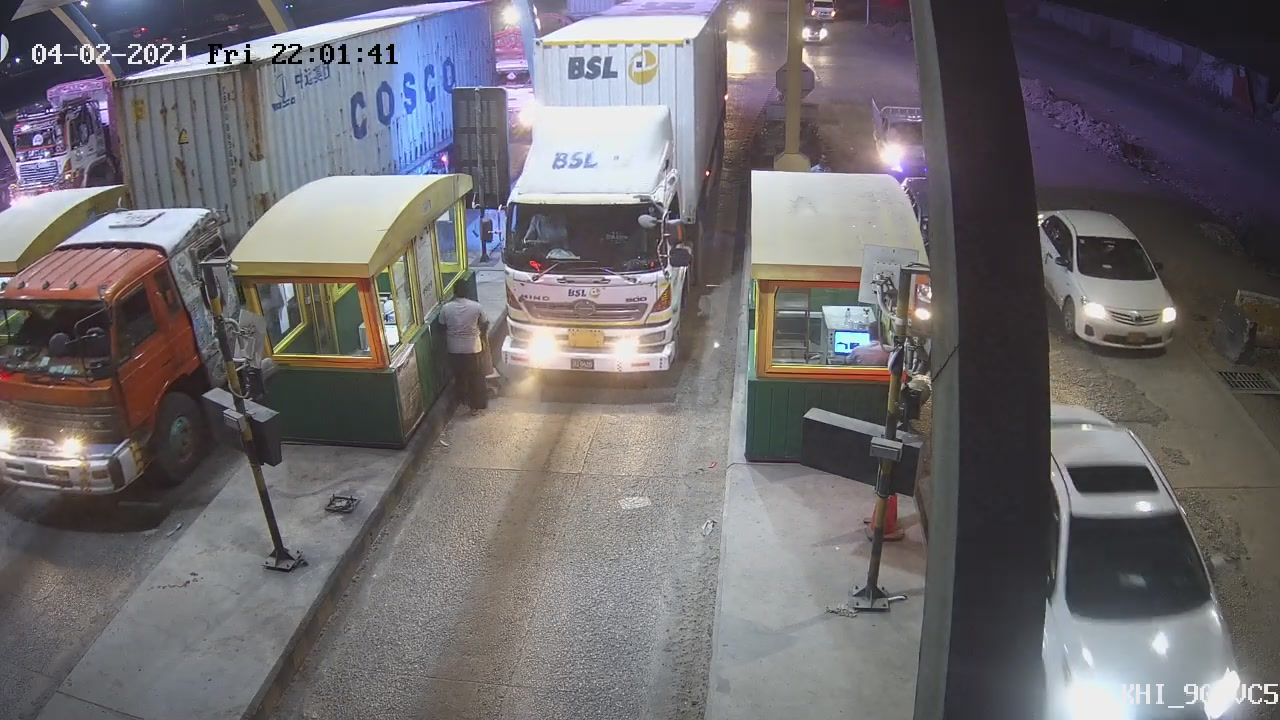F6: (481, 36, 705, 380)
